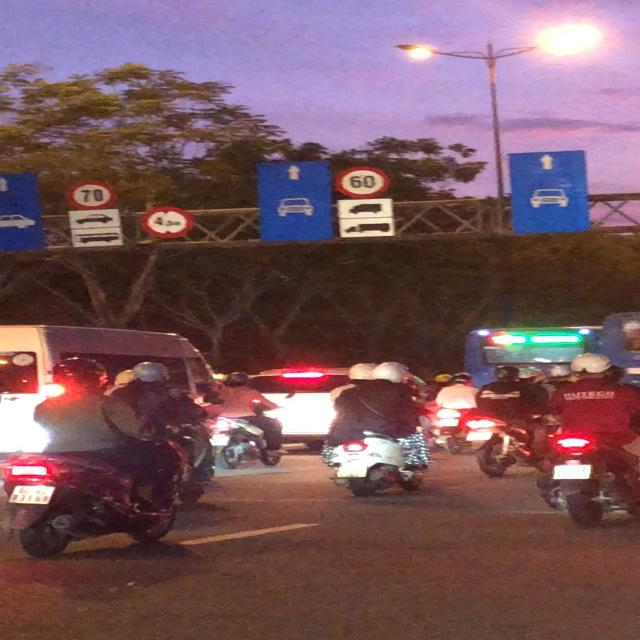Bien bao han che chieu cao: (138, 204, 197, 242)
Bien bao toc do toi da cho phep: (60, 178, 122, 212), (328, 172, 392, 202)
